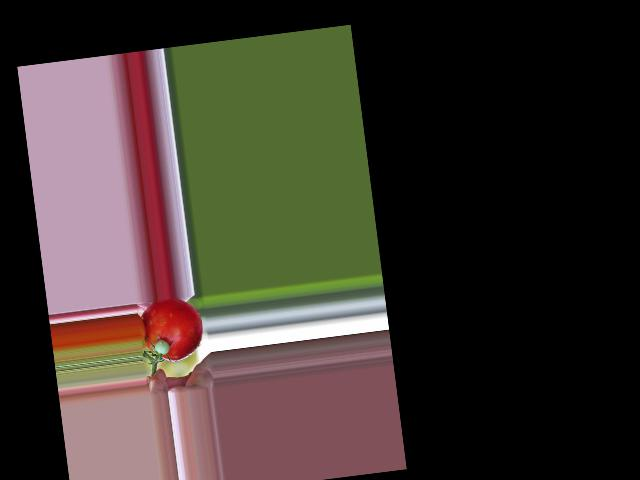tomato: (139, 294, 206, 365)
